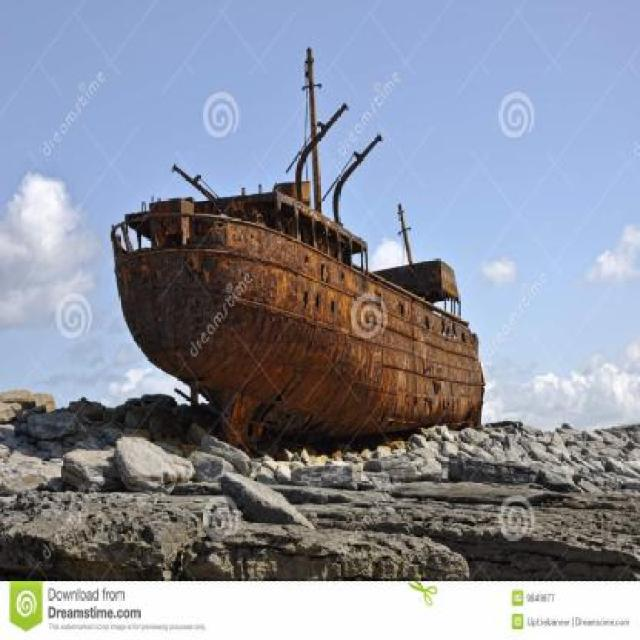corrosion: (112, 180, 485, 437)
